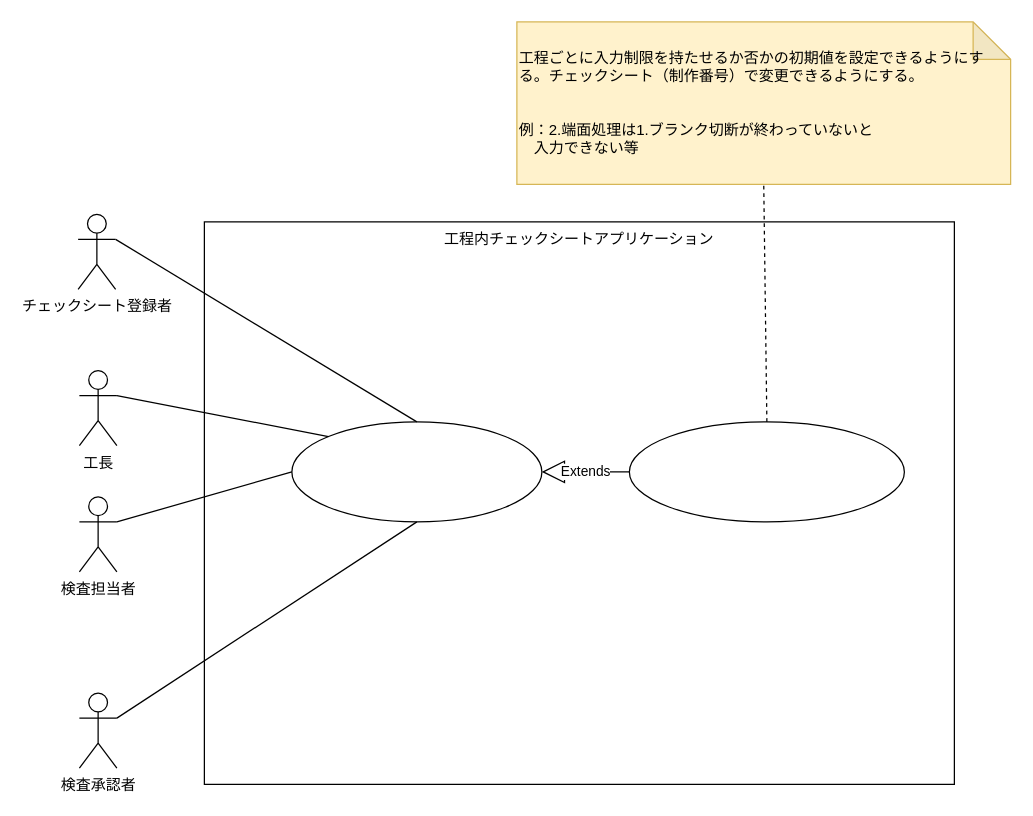
The diagram is 1033 pixels wide and 816 high, and some of its shapes have lost their labels. The centre of each missing label's shape, as x and y in pixels:
入力条件を設定する: the point at 416,471
工程毎に入力可能条件の 初期値を設定する: the point at 766,471
